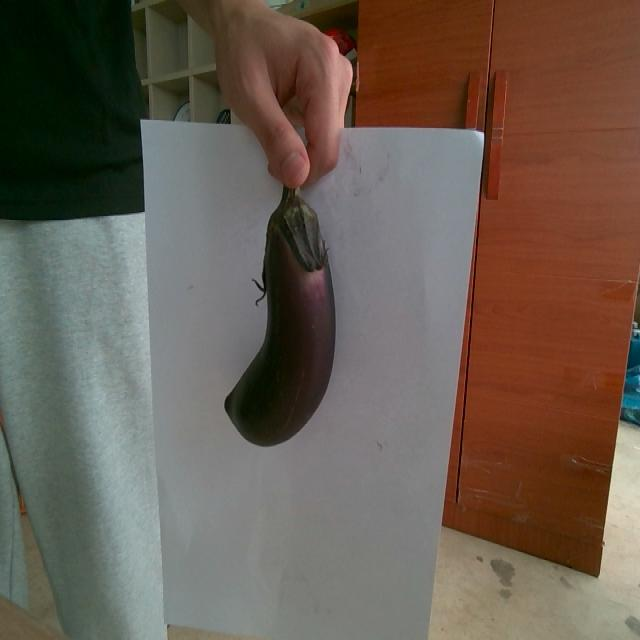Egg plant: (226, 187, 335, 445)
